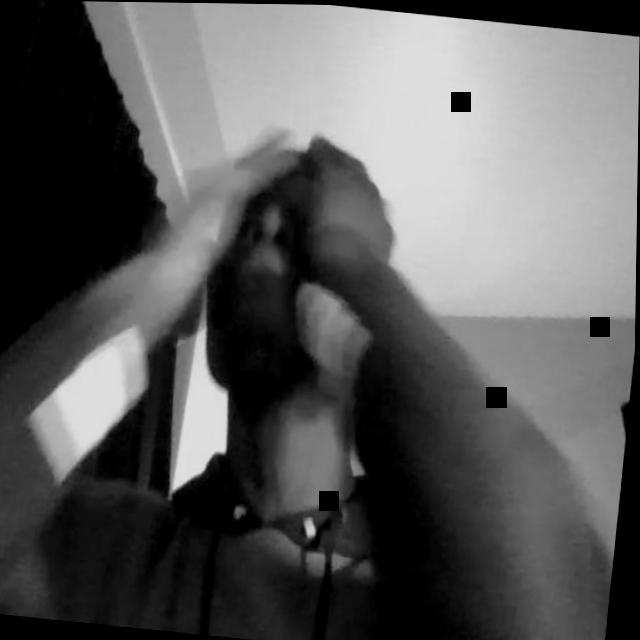NO-Mask: (196, 150, 332, 399)
